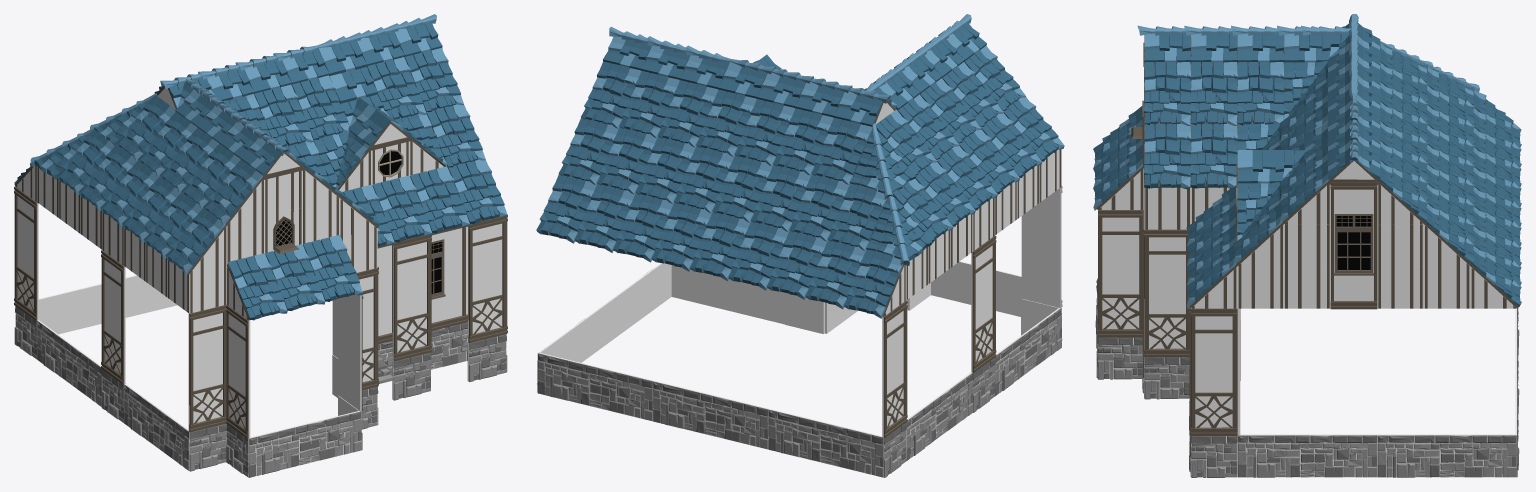
Rendered from House_20_parts.glb.
3 renders of one model, left to right at view 1: azimuth 30°, elevation 25°; view 2: azimuth 150°, elevation 25°; view 3: azimuth 270°, elevation 25°, orthographic. The views are drawn at different scales.
Parts seen in each view (by area): view 1: WINDOW_03_2, WALL_04_7, WALL_04_10, WALL_04_8, FOUNDATION_02_26, WALL_04_11, WALL_04_13, WALL_04_12, FOUNDATION_02_34, WALL_04_3, FOUNDATION_02_33, FOUNDATION_02_32 (+71 smaller); view 2: FOUNDATION_02_30, FOUNDATION_02_32, FOUNDATION_02_31, WALL_04_10, FOUNDATION_02_27, WALL_04_13, WALL_04_12, FOUNDATION_02_33, FOUNDATION_02_34, FOUNDATION_02_28, ROOF_base_76, ROOF_base_61 (+59 smaller); view 3: FOUNDATION_02_28, FOUNDATION_02_29, WINDOW_04_4, WALL_04_9, WALL_04_5, WALL_04_3, ROOF_base_30, ROOF_base_32, ROOF_base_34, ROOF_base_33, ROOF_base_31, ROOF_up_quad_24 (+79 smaller).
Boxes of the visible parts, box(x1,y1,x2,y2) form: WINDOW_03_2: box(377, 226, 467, 343); WALL_04_7: box(392, 235, 431, 361); WALL_04_10: box(188, 305, 227, 432); WALL_04_8: box(468, 217, 507, 342); FOUNDATION_02_26: box(248, 411, 361, 477); WALL_04_11: box(226, 304, 250, 438); WALL_04_13: box(14, 186, 38, 320); WALL_04_12: box(101, 250, 125, 384); FOUNDATION_02_34: box(124, 384, 189, 470); WALL_04_3: box(338, 293, 363, 411); FOUNDATION_02_33: box(37, 320, 102, 406); FOUNDATION_02_32: box(38, 277, 129, 334); FOUNDATION_02_30: box(537, 352, 653, 421); FOUNDATION_02_32: box(768, 409, 883, 477); FOUNDATION_02_31: box(653, 380, 768, 449); WALL_04_10: box(1022, 186, 1062, 307); FOUNDATION_02_27: box(671, 265, 785, 324); WALL_04_13: box(882, 300, 907, 437); WALL_04_12: box(971, 235, 996, 372); FOUNDATION_02_33: box(906, 372, 973, 461); FOUNDATION_02_34: box(995, 308, 1062, 396); FOUNDATION_02_28: box(604, 263, 671, 344); ROOF_base_76: box(844, 249, 903, 318); ROOF_base_61: box(728, 221, 789, 290); FOUNDATION_02_28: box(1237, 434, 1377, 477); FOUNDATION_02_29: box(1377, 434, 1516, 477); WINDOW_04_4: box(1330, 182, 1377, 309); WALL_04_9: box(1191, 308, 1237, 435); WALL_04_5: box(1144, 229, 1189, 357); WALL_04_3: box(1098, 210, 1143, 337); ROOF_base_30: box(1144, 122, 1190, 189); ROOF_base_32: box(1190, 122, 1237, 188); ROOF_base_34: box(1237, 62, 1284, 125); ROOF_base_33: box(1190, 61, 1237, 125); ROOF_base_31: box(1144, 62, 1190, 125); ROOF_up_quad_24: box(1237, 266, 1284, 308).
Size of the model in its own units: 9.28 by 7.65 by 9.2.
1 material, 1 textured.
